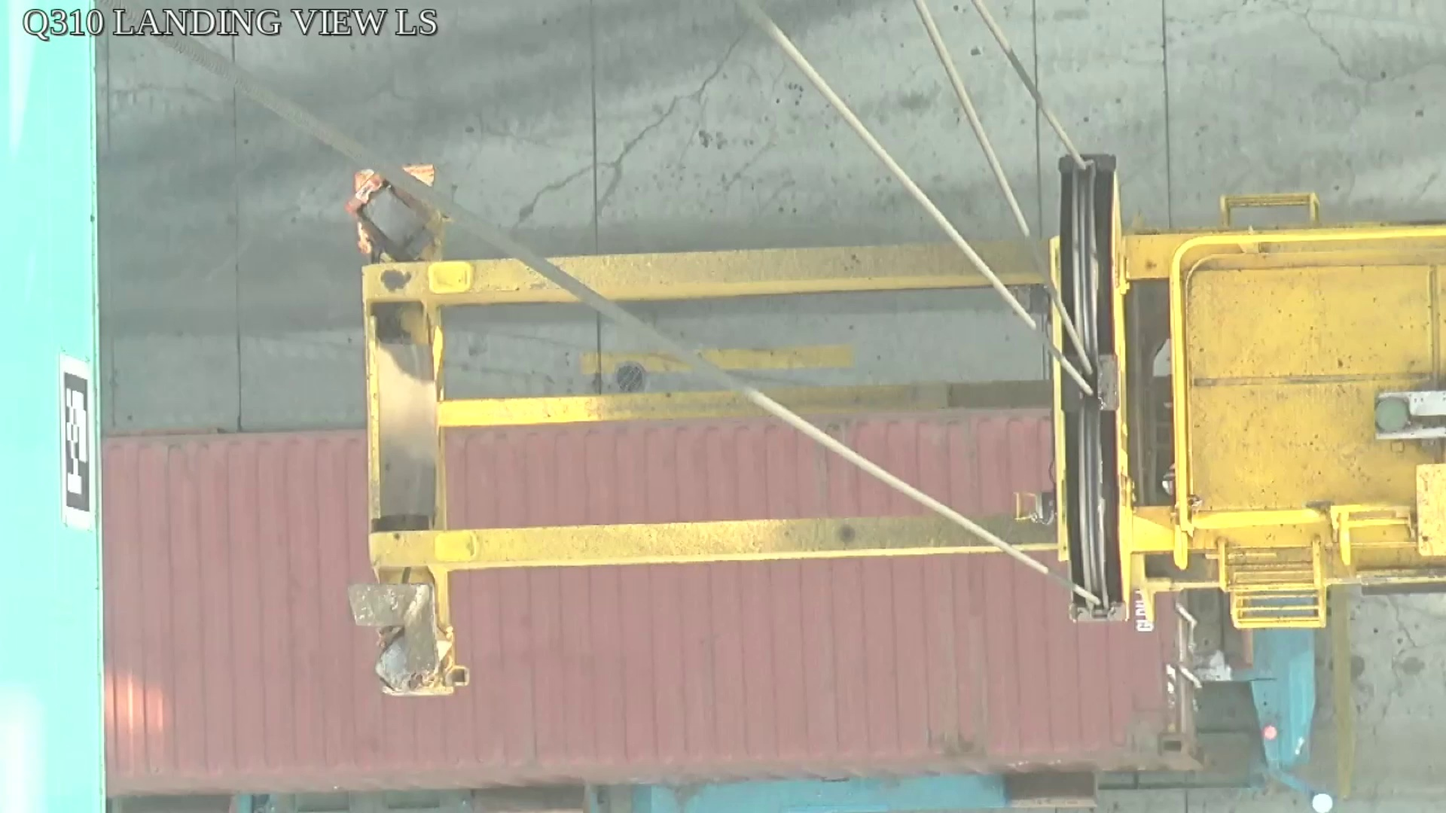aa: (1051, 154, 1139, 624)
